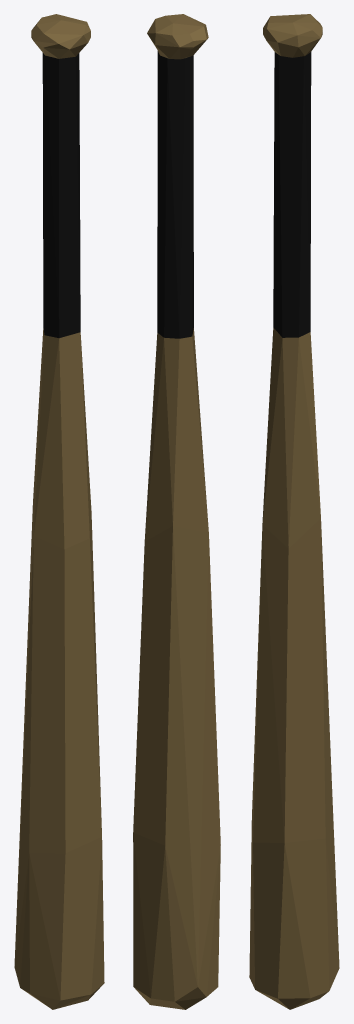
The model's file is Baseball.fbx.
3 views of the same model, side by side, from view 1: azimuth 90°, elevation 25°; view 2: azimuth 210°, elevation 25°; view 3: azimuth 270°, elevation 25° (orthographic).
Parts seen in each view (by area): view 1: Baseball; view 2: Baseball; view 3: Baseball.
Boxes of the visible parts, x1=… form: Baseball: x1=14, y1=14, x2=104, y2=1009; Baseball: x1=133, y1=14, x2=220, y2=1009; Baseball: x1=249, y1=14, x2=339, y2=1009.
Bounding box in the file's own units: 8.67 × 104 × 8.68.
